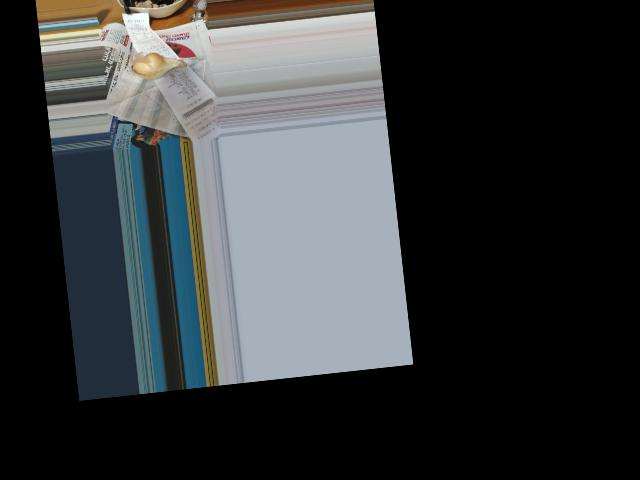onion: (129, 49, 177, 81)
